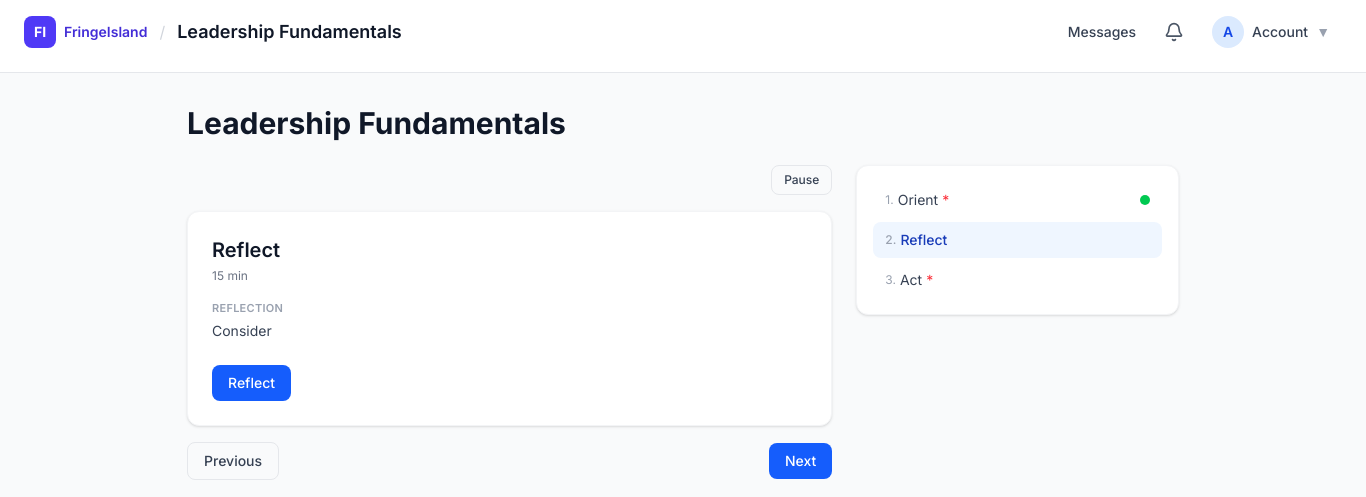
STORY-3 — completion wiring (optimistic tick, gating, rollback) › paints the tick optimistically before the completion contract resolves
Expected: the element with test id "journey-player" is shown, [187,165,1179,480]
Click the button with test id "step-complete".
click(252, 382)  # box [212,364,291,400]
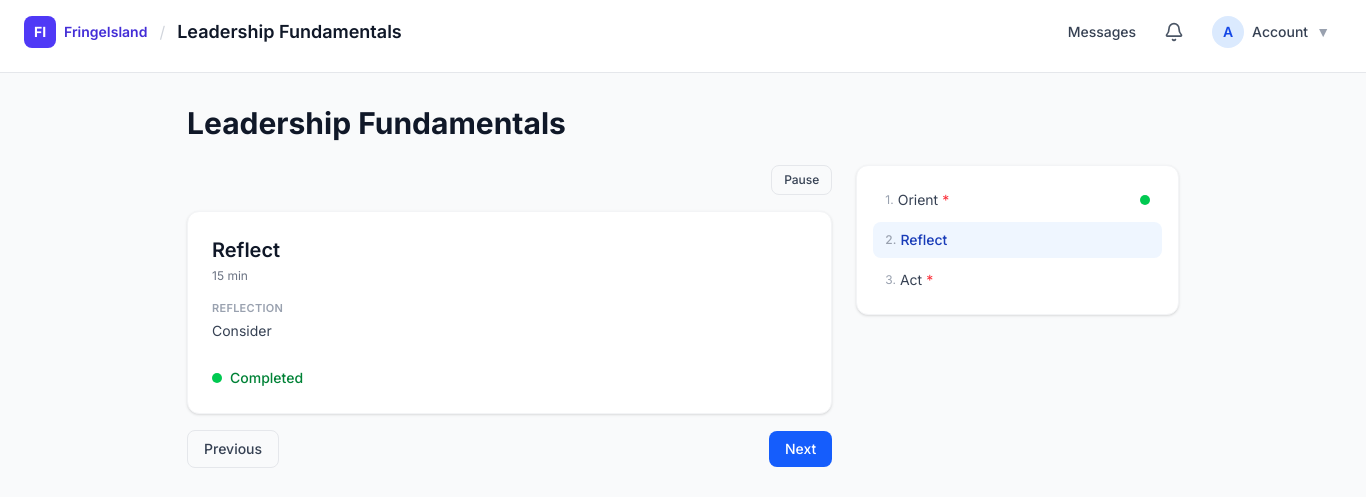
Result: the element with test id "step-completed" is shown at [212,368,303,388]
